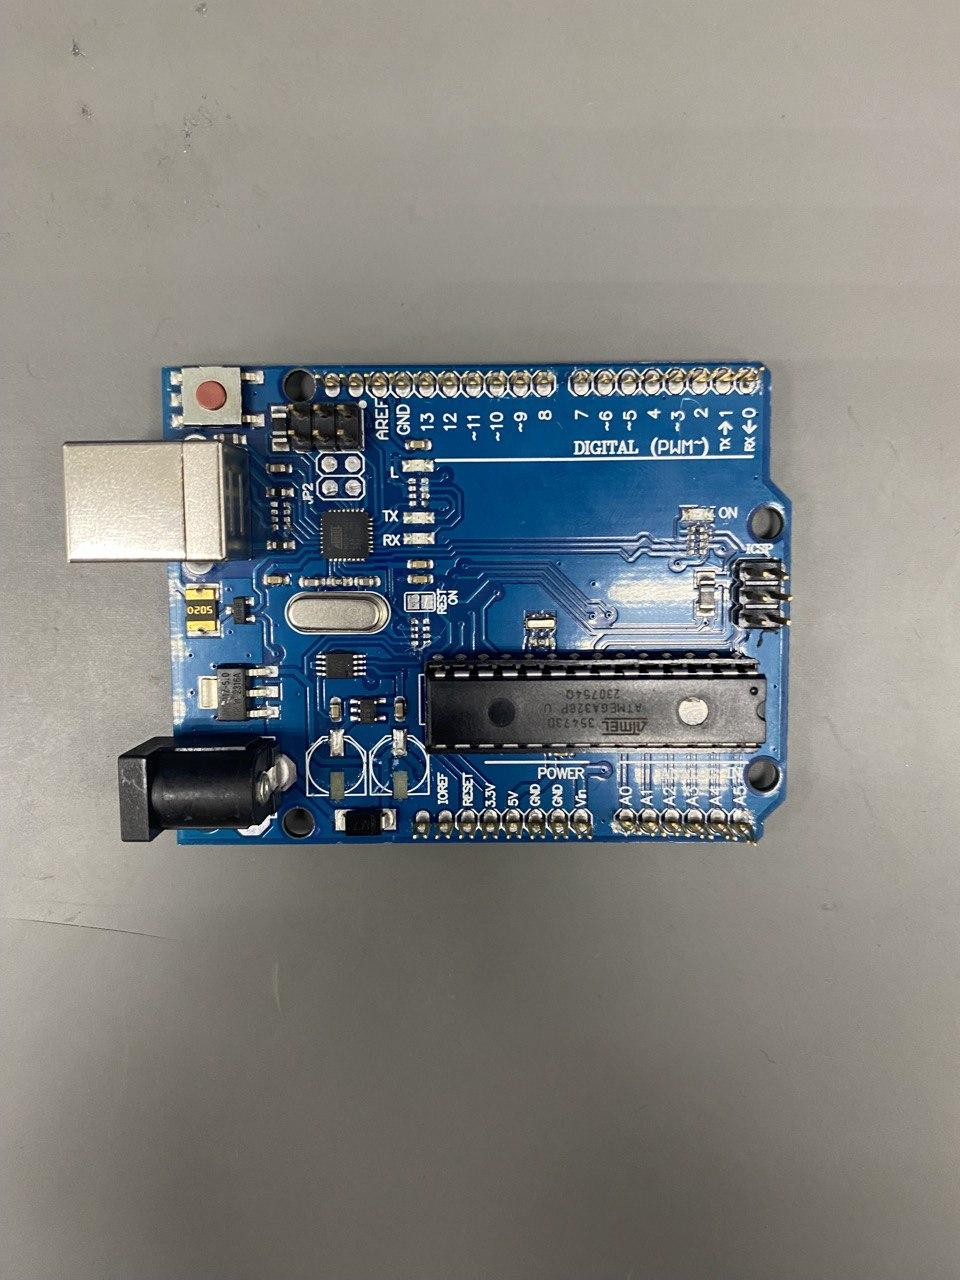ATmega328 chip: (423, 655, 767, 756)
Arduino board: (61, 361, 794, 847)
USB: (62, 438, 253, 563)
